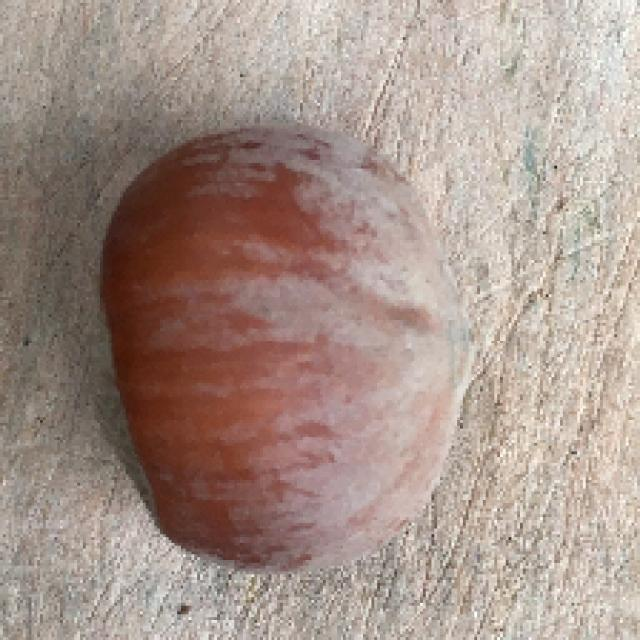QualityHazelnut: (100, 130, 473, 574)
